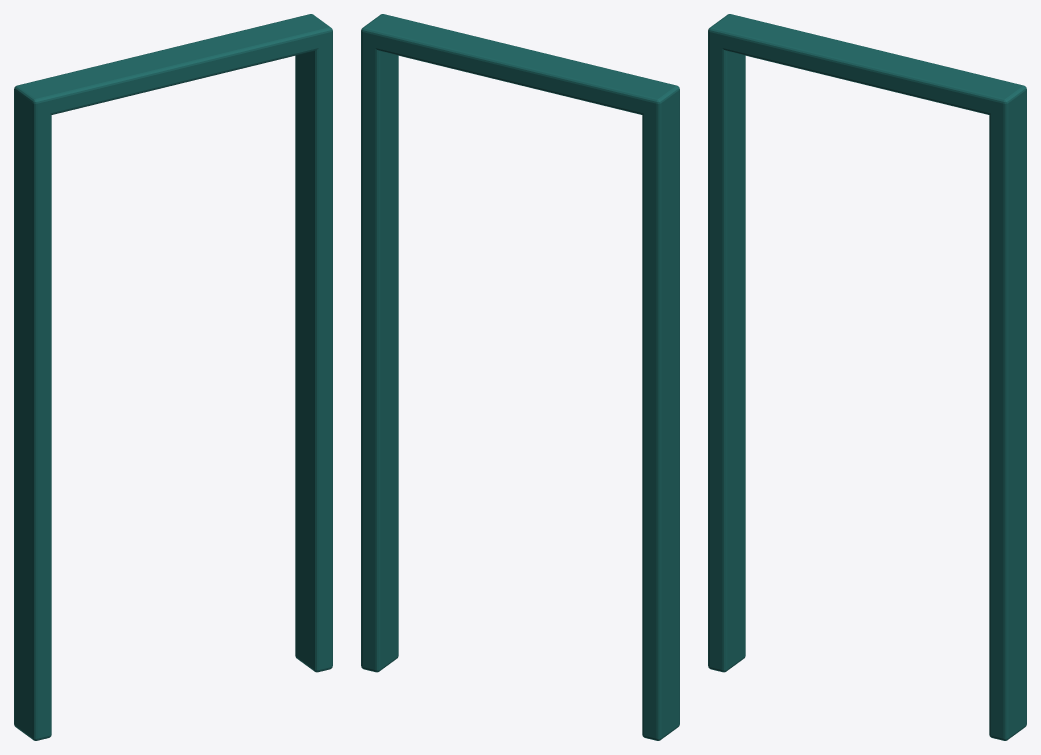
File: door_frame.glb
3 views of the same model, side by side, from view 1: azimuth 30°, elevation 25°; view 2: azimuth 150°, elevation 25°; view 3: azimuth 330°, elevation 25° (orthographic).
Visible parts, largest first — view 1: Jamb, Jamb.001, Header; view 2: Jamb, Jamb.001, Header; view 3: Jamb.001, Jamb, Header.
Part boxes in pixels (<box>): Jamb: <box>14,90,51,740</box>; Jamb.001: <box>295,31,332,672</box>; Header: <box>14,14,332,116</box>; Jamb: <box>642,92,679,740</box>; Jamb.001: <box>361,31,398,672</box>; Header: <box>361,14,679,116</box>; Jamb.001: <box>989,90,1026,740</box>; Jamb: <box>708,31,745,672</box>; Header: <box>708,14,1026,116</box>.
Bounding box in the file's own units: 1.12 × 2.29 × 0.14.
